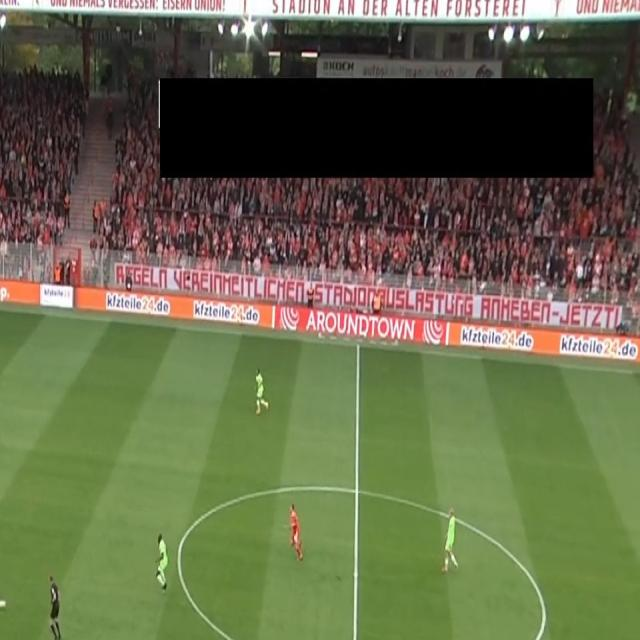ball: (0, 596, 7, 612)
